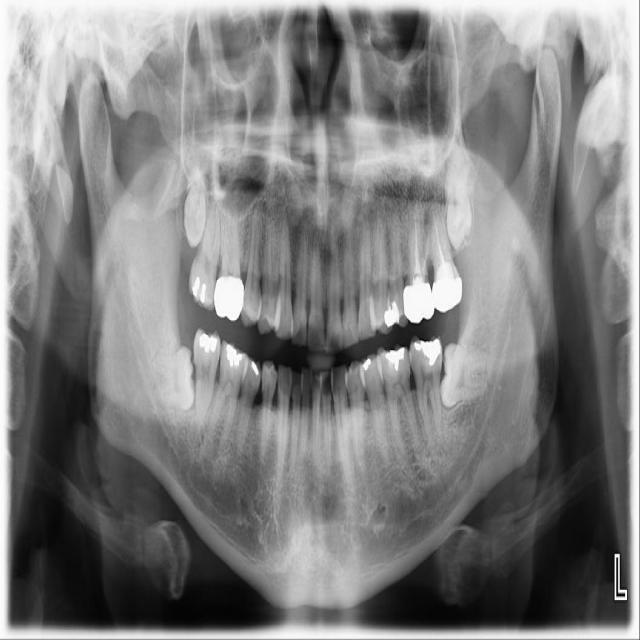3M ESPE Implant: (183, 167, 207, 249)
52: (208, 337, 258, 384), (186, 258, 220, 312), (400, 280, 436, 325), (376, 344, 415, 385), (409, 335, 443, 376), (214, 276, 244, 321), (190, 329, 224, 367), (431, 276, 464, 313), (366, 296, 395, 335), (358, 352, 385, 391), (237, 357, 266, 393), (386, 291, 410, 331)
73: (419, 202, 459, 283), (404, 200, 435, 287), (616, 601, 625, 614)
BioHorizons Implant: (425, 203, 464, 313)
BioLife Implant: (446, 146, 474, 251)
Biomet 3i Implant: (440, 344, 492, 409)
Blue Sky Bio Implant: (408, 336, 443, 439)
Caries: (187, 189, 225, 311)
Implant: (194, 329, 221, 431)
Keystone Dental Implant: (152, 345, 196, 410)
